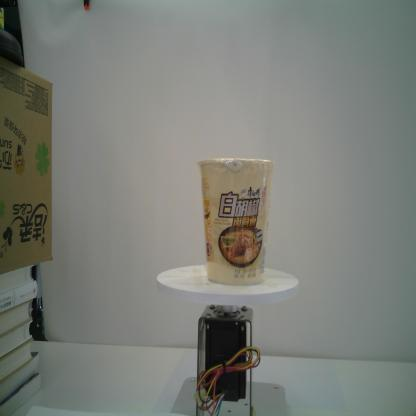Instant Noodles: (196, 156, 276, 286)
